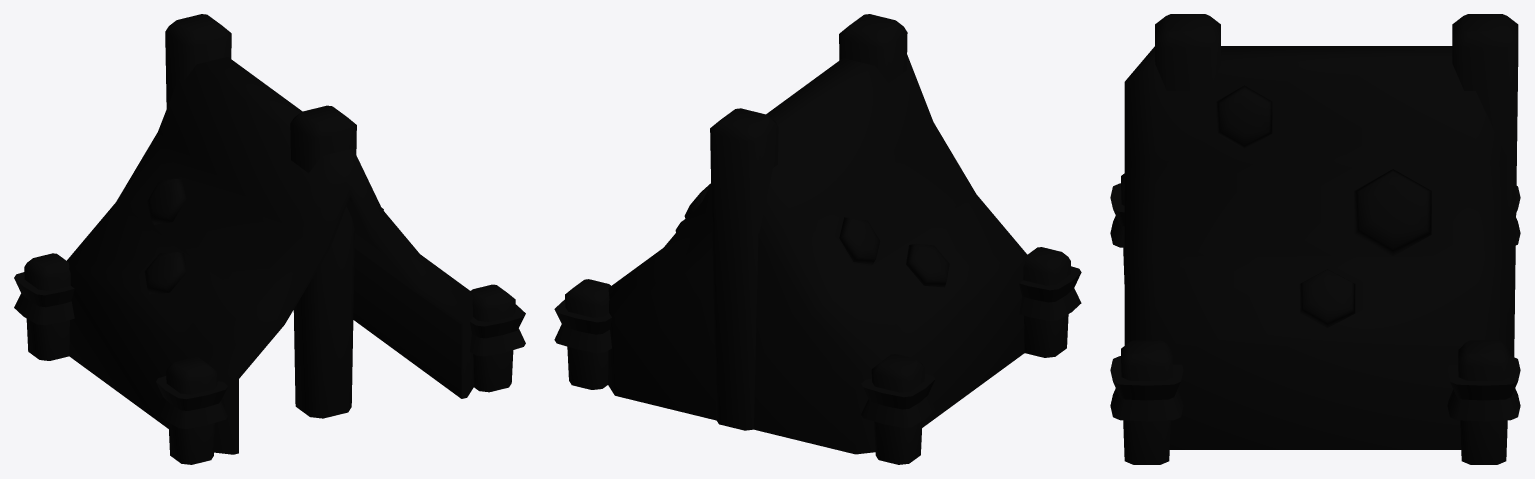
Rendered from tent.glb.
The picture shows the model from 3 angles, left to right: view 1: azimuth 30°, elevation 25°; view 2: azimuth 150°, elevation 25°; view 3: azimuth 270°, elevation 25°; orthographic projection. The views are drawn at different scales.
Visible parts, largest first — view 1: tent; view 2: tent; view 3: tent.
Boxes of the visible parts, <box> form: tent: <box>14,14,525,464</box>; tent: <box>554,14,1081,464</box>; tent: <box>1110,14,1520,464</box>.
Bounding box in the file's own units: 1.26 × 1 × 1.07.
1 material, 1 textured.
